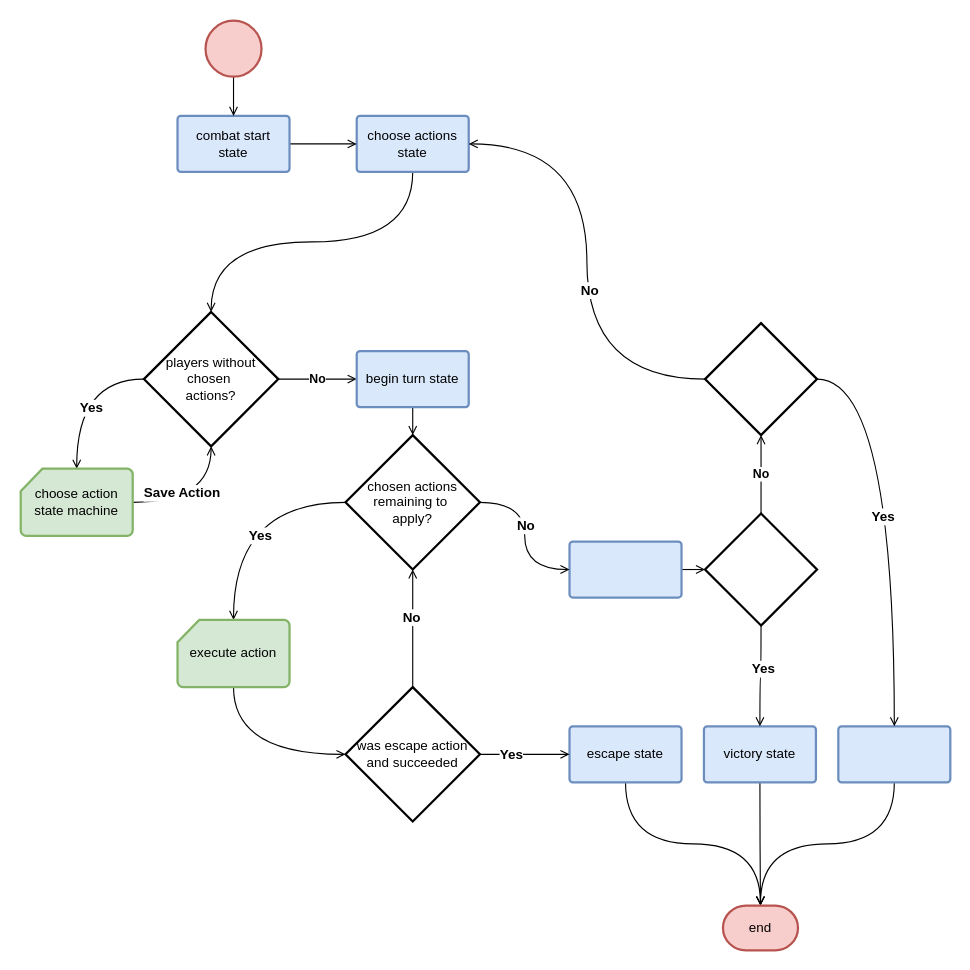
Image size: 970x970. Some labels were removed from this diagram. The shapes that lost their labels are listed below. From the top down, each one's box as (x1, y1, x2, y2) in pixels, then its label:
(204, 19, 262, 77): start
(703, 321, 818, 436): party dead?
(568, 540, 682, 598): end turn state
(703, 512, 818, 626): enemies dead?
(837, 725, 951, 783): defeat state
